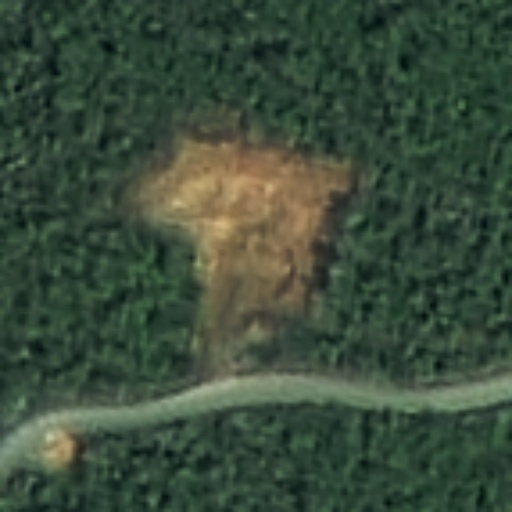landslide: (144, 140, 357, 377)
